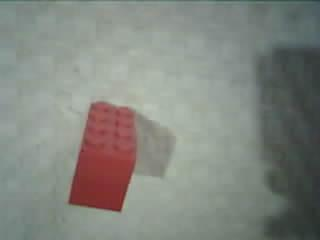lego: (67, 100, 138, 212)
